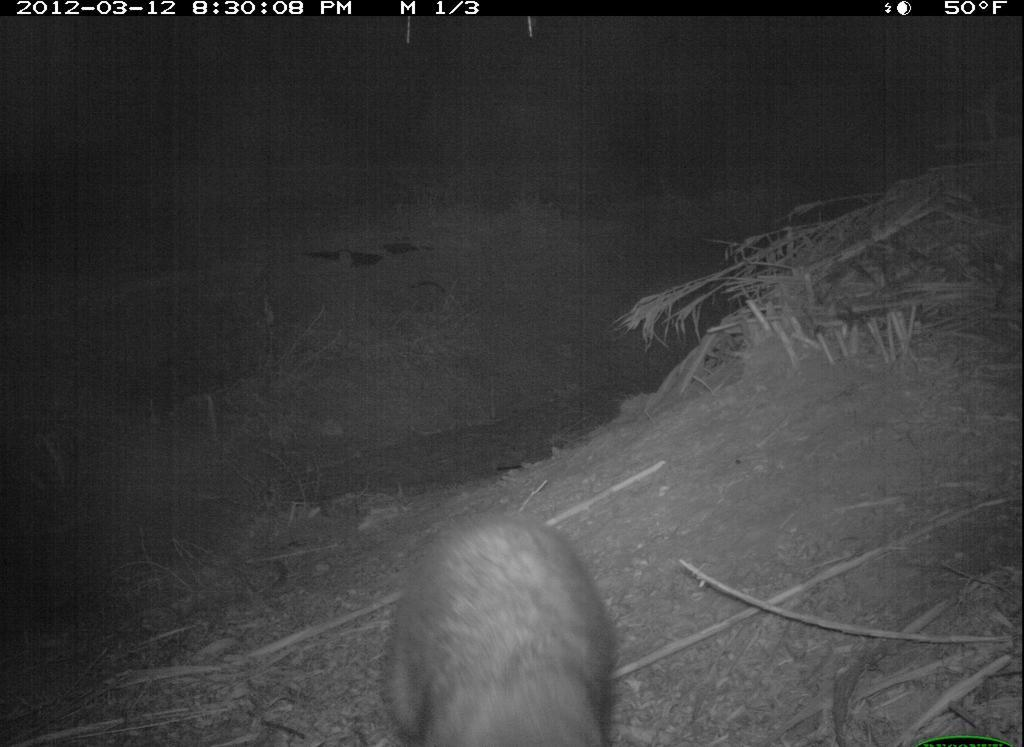raccoon: (367, 500, 644, 747)
